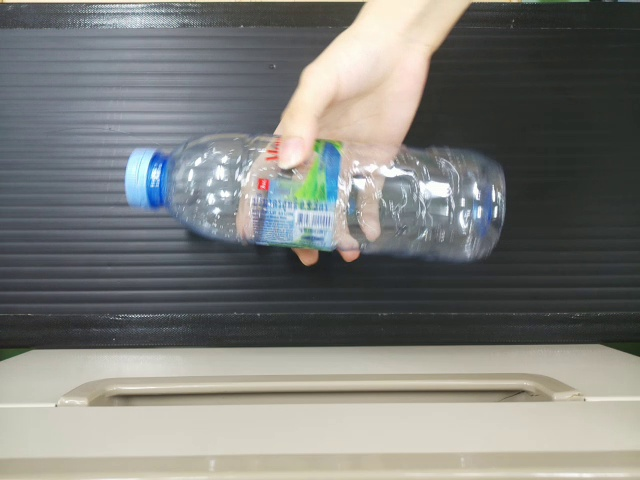bottle: (120, 121, 508, 268)
